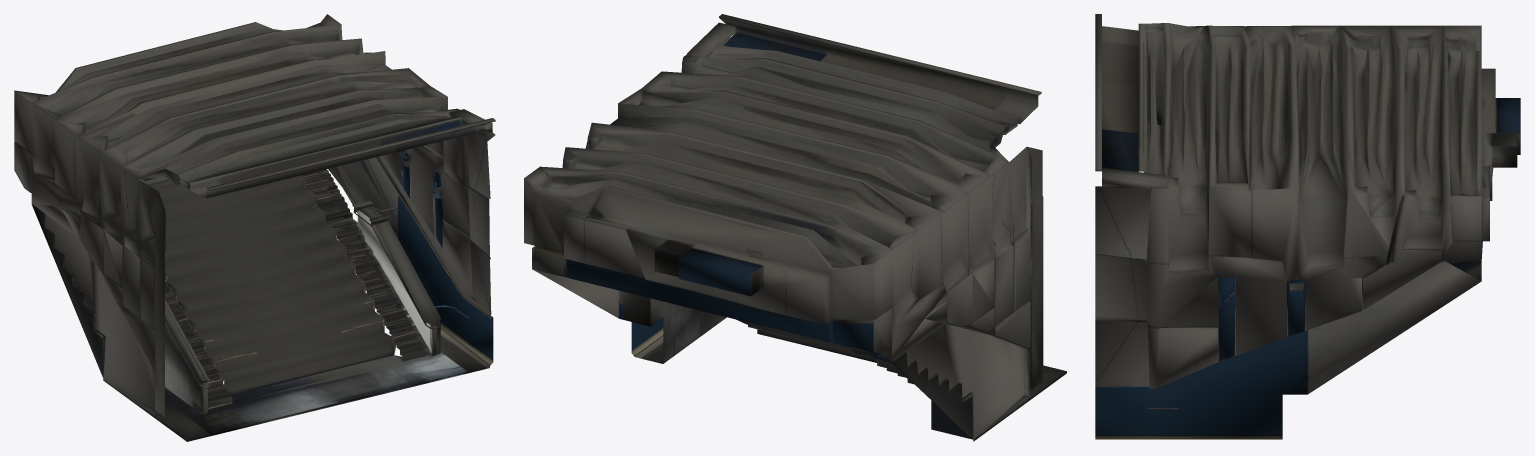
File: monument-imax-shell.glb
3 renders of one model, left to right at view 1: azimuth 30°, elevation 25°; view 2: azimuth 150°, elevation 25°; view 3: azimuth 270°, elevation 25°, orthographic. The views are drawn at different scales.
Visible parts, largest first — view 1: Monument IMAX Shell; view 2: Monument IMAX Shell; view 3: Monument IMAX Shell.
Part boxes in pixels (x1,y1,x2,y2): Monument IMAX Shell: [14, 14, 495, 441]; Monument IMAX Shell: [524, 14, 1066, 441]; Monument IMAX Shell: [1095, 14, 1520, 439].
Bounding box in the file's own units: 0.9512 × 0.7129 × 0.998.
Materials: 1 (1 with a texture image).
